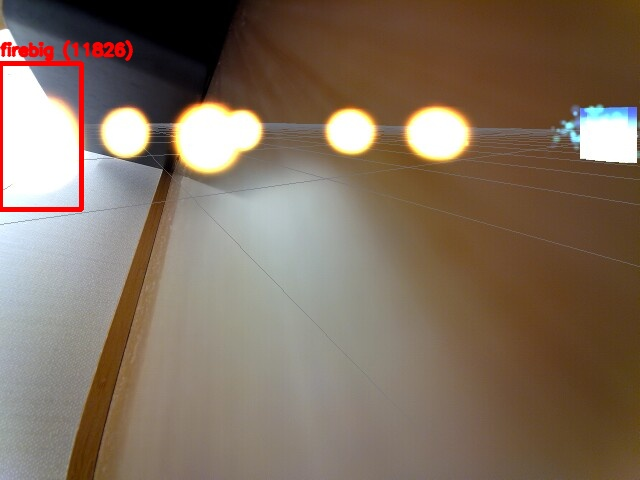firebig: (0, 63, 81, 209)
